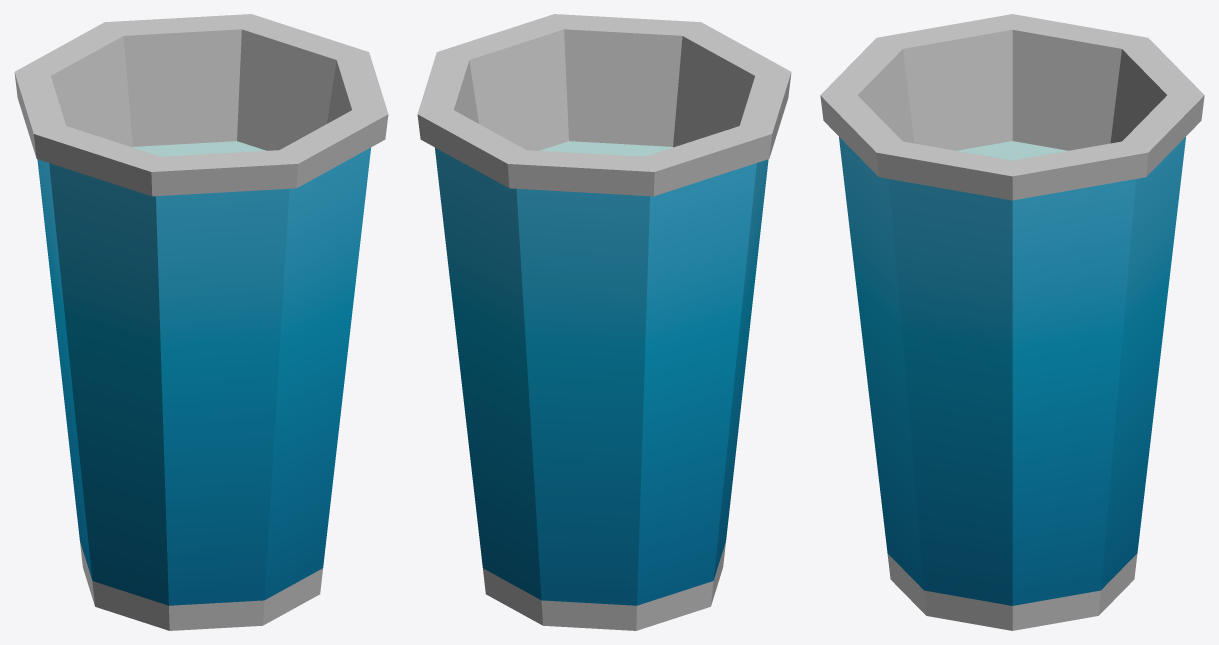
Rendered from SM_Food_Soda_04.fbx.
3 views of the same model, side by side, from view 1: azimuth 30°, elevation 25°; view 2: azimuth 150°, elevation 25°; view 3: azimuth 270°, elevation 25° (orthographic).
Visible parts, largest first — view 1: SM_Food_Soda_04; view 2: SM_Food_Soda_04; view 3: SM_Food_Soda_04.
Boxes of the visible parts, x1,y1,x2,y2 form: SM_Food_Soda_04: [14, 14, 388, 630]; SM_Food_Soda_04: [417, 14, 791, 630]; SM_Food_Soda_04: [820, 14, 1204, 630].
Bounding box in the file's own units: 0.0923 × 0.1283 × 0.0923.
